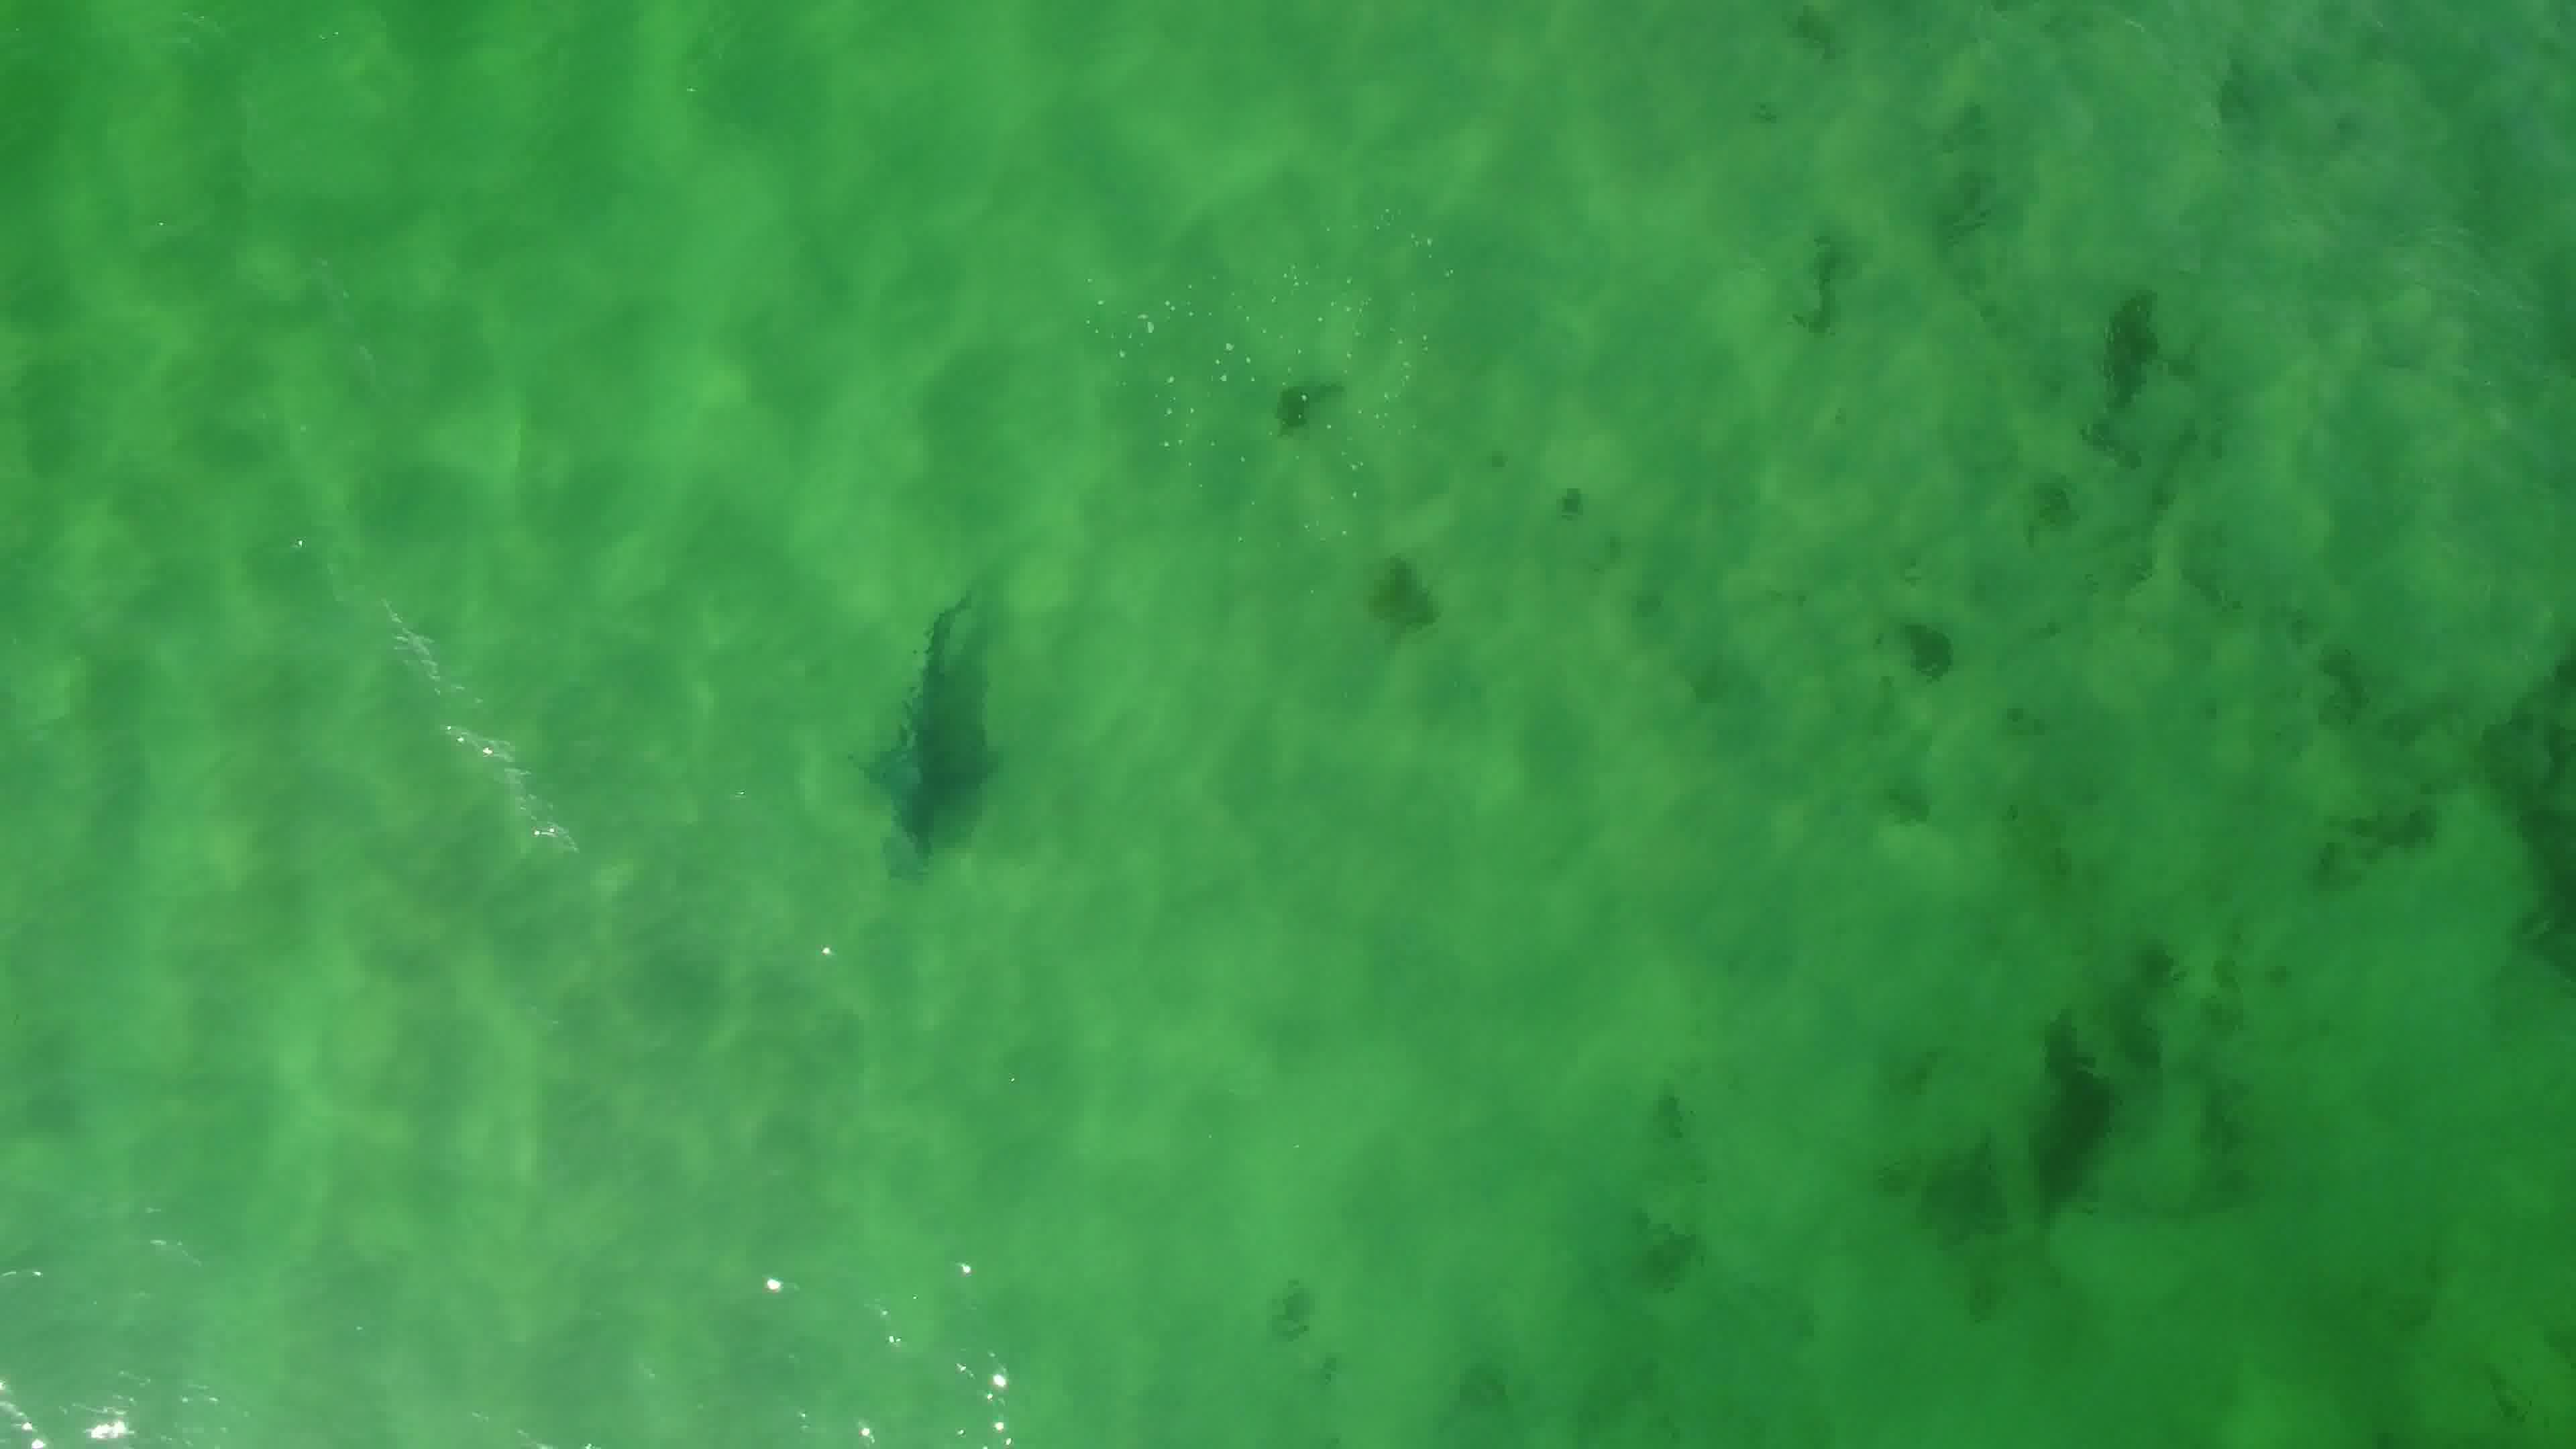shark: (824, 582, 1005, 885)
